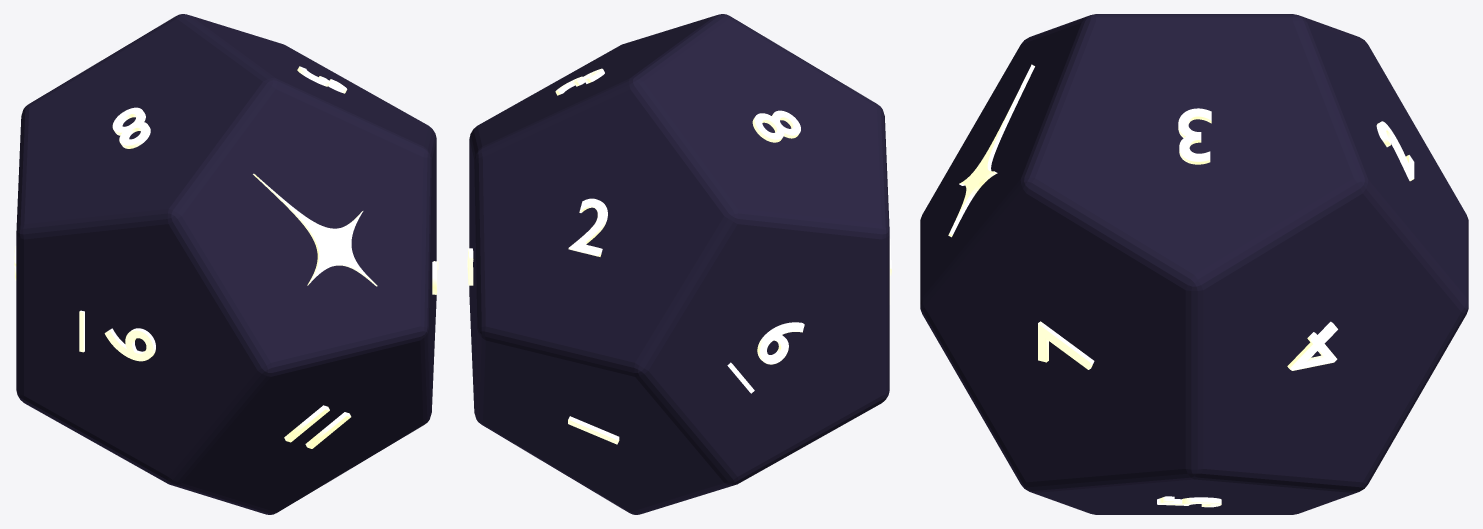
File: d12-cosmico.glb
3 renders of one model, left to right at view 1: azimuth 30°, elevation 25°; view 2: azimuth 150°, elevation 25°; view 3: azimuth 270°, elevation 25°, orthographic. The views are drawn at different scales.
Parts seen in each view (by area): view 1: D12, D12_Logo; view 2: D12; view 3: D12, D12_Logo.
Part boxes in pixels (box(x1,y1,x2,y2)): D12: box(14, 14, 438, 514); D12_Logo: box(253, 173, 377, 286); D12: box(467, 14, 891, 514); D12: box(920, 14, 1468, 514); D12_Logo: box(948, 64, 1034, 237).
Bounding box in the file's own units: 1.84 × 1.84 × 1.84.
